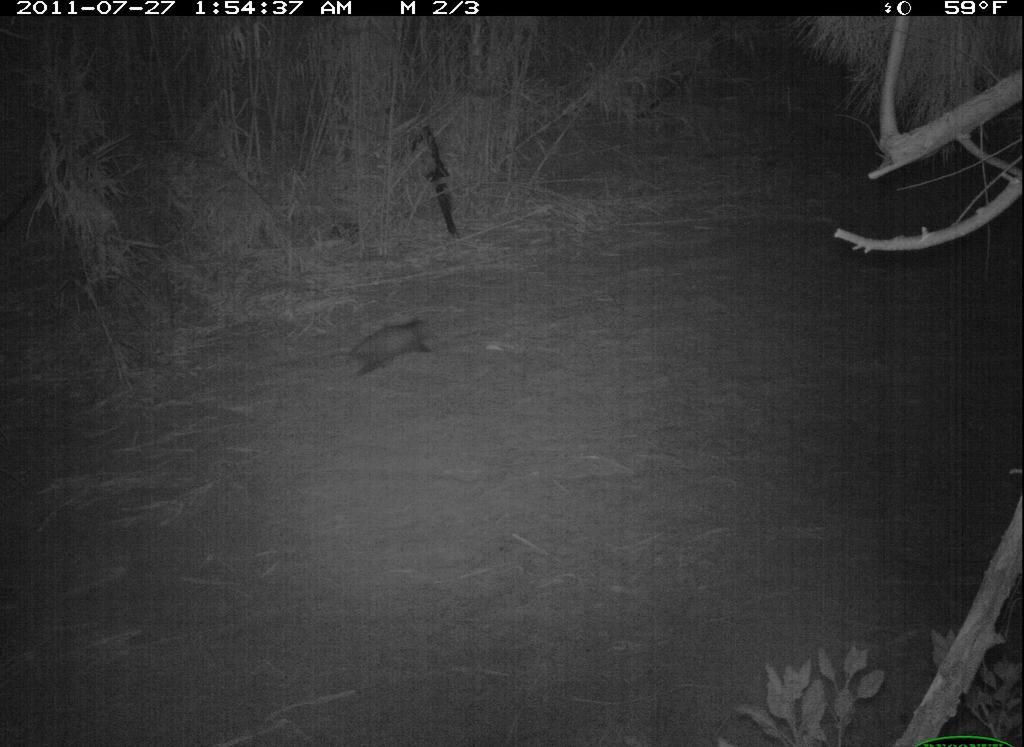opossum: (327, 310, 450, 390)
